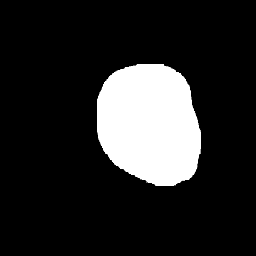mass: (102, 68, 195, 181)
